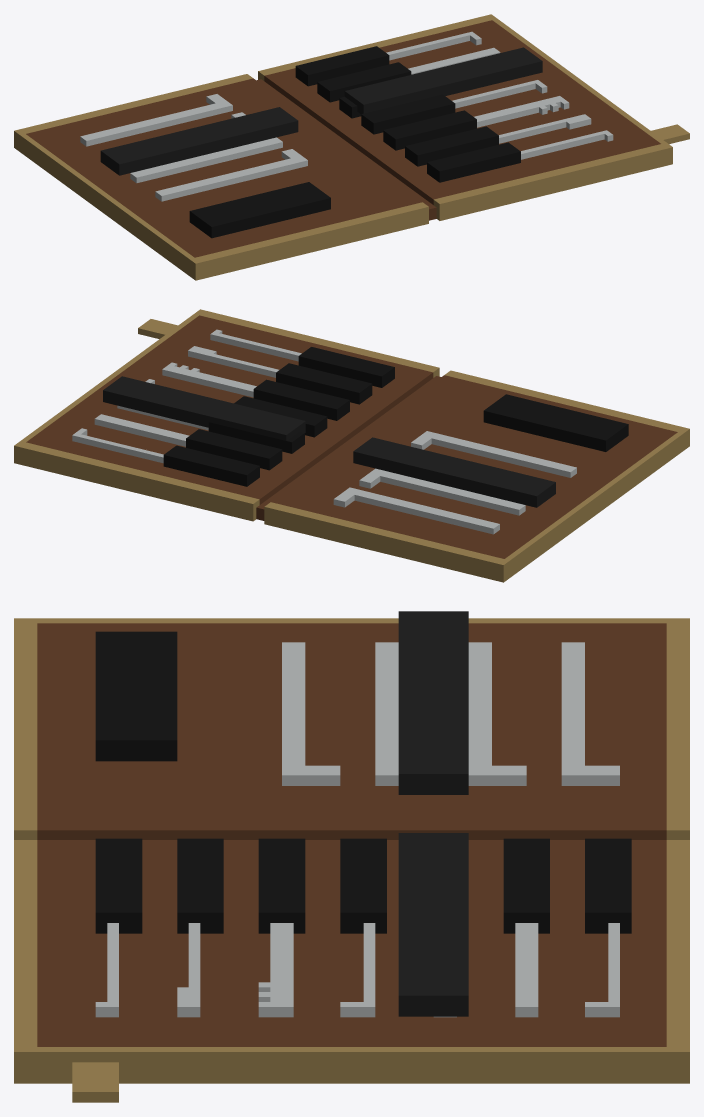
The model's file is picklocks.glb.
3 renders of one model, top to bottom at view 1: azimuth 30°, elevation 25°; view 2: azimuth 150°, elevation 25°; view 3: azimuth 270°, elevation 25°, orthographic. The views are drawn at different scales.
Parts seen in each view (by area): view 1: picklocks:compound; view 2: picklocks:compound; view 3: picklocks:compound.
Boxes of the visible parts, x1,y1,x2,y2 form: picklocks:compound: (14,14,689,280); picklocks:compound: (14,309,689,582); picklocks:compound: (14,611,689,1102).
Bounding box in the file's own units: 0.188 × 0.012 × 0.116.
